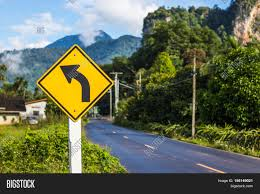curveLeft: (37, 43, 116, 124)
